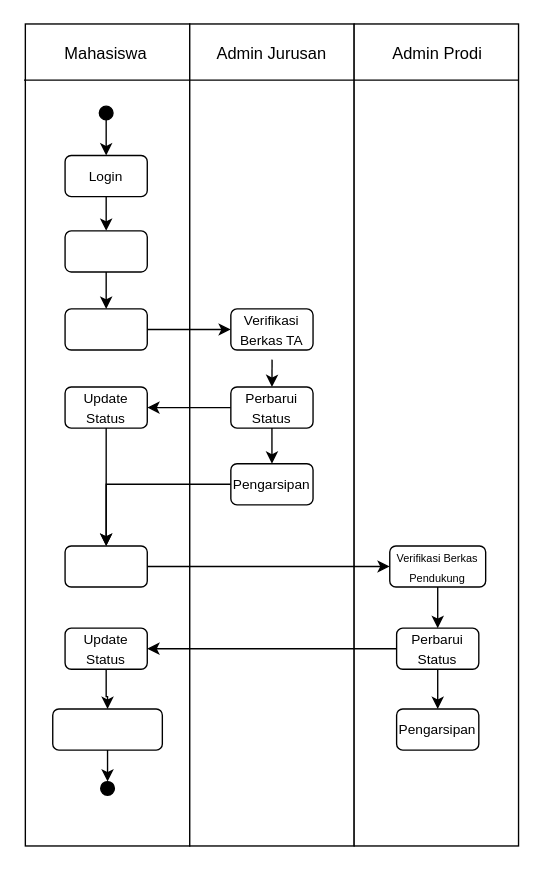
This 544x870 diagram has some shape labels left out. Here are the shapes that lost their labels. From the top down, the centre of each, then its label:
At point 105,250: "Mengisi Biodata".
At point 105,329: "Upload Berkas TA".
At point 105,566: "Upload Berkas Pendukung".
At point 106,729: "Cetak Surat Bebas Tanggungan".
